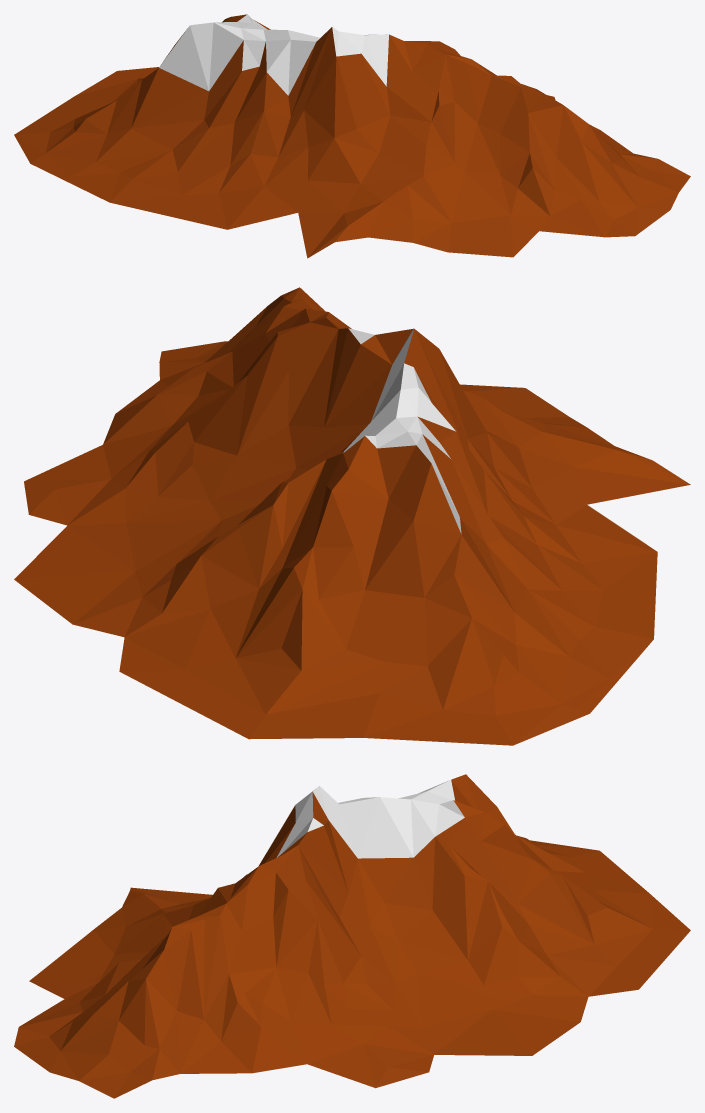
Rendered from mountain (1).fbx.
The picture shows the model from 3 angles, top to bottom: view 1: azimuth 30°, elevation 25°; view 2: azimuth 150°, elevation 25°; view 3: azimuth 270°, elevation 25°; orthographic projection. The views are drawn at different scales.
Visible parts, largest first — view 1: Plane_Plane.001; view 2: Plane_Plane.001; view 3: Plane_Plane.001.
Part boxes in pixels (<box>): Plane_Plane.001: <box>14,14,690,258</box>; Plane_Plane.001: <box>14,287,690,745</box>; Plane_Plane.001: <box>14,774,690,1098</box>.
Size of the model in its own units: 1937 by 590 by 2107.
